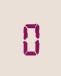zero: (19, 20, 40, 55)
